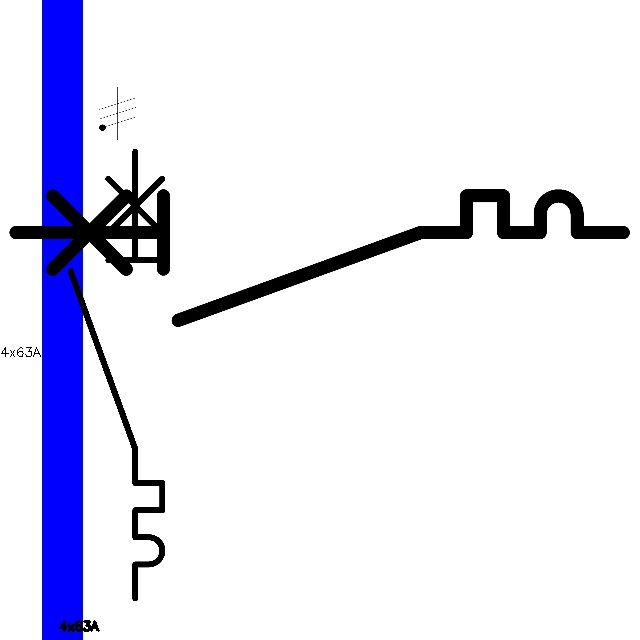interruptor_termomagnetico: (0, 180, 639, 336), (59, 140, 174, 610)
